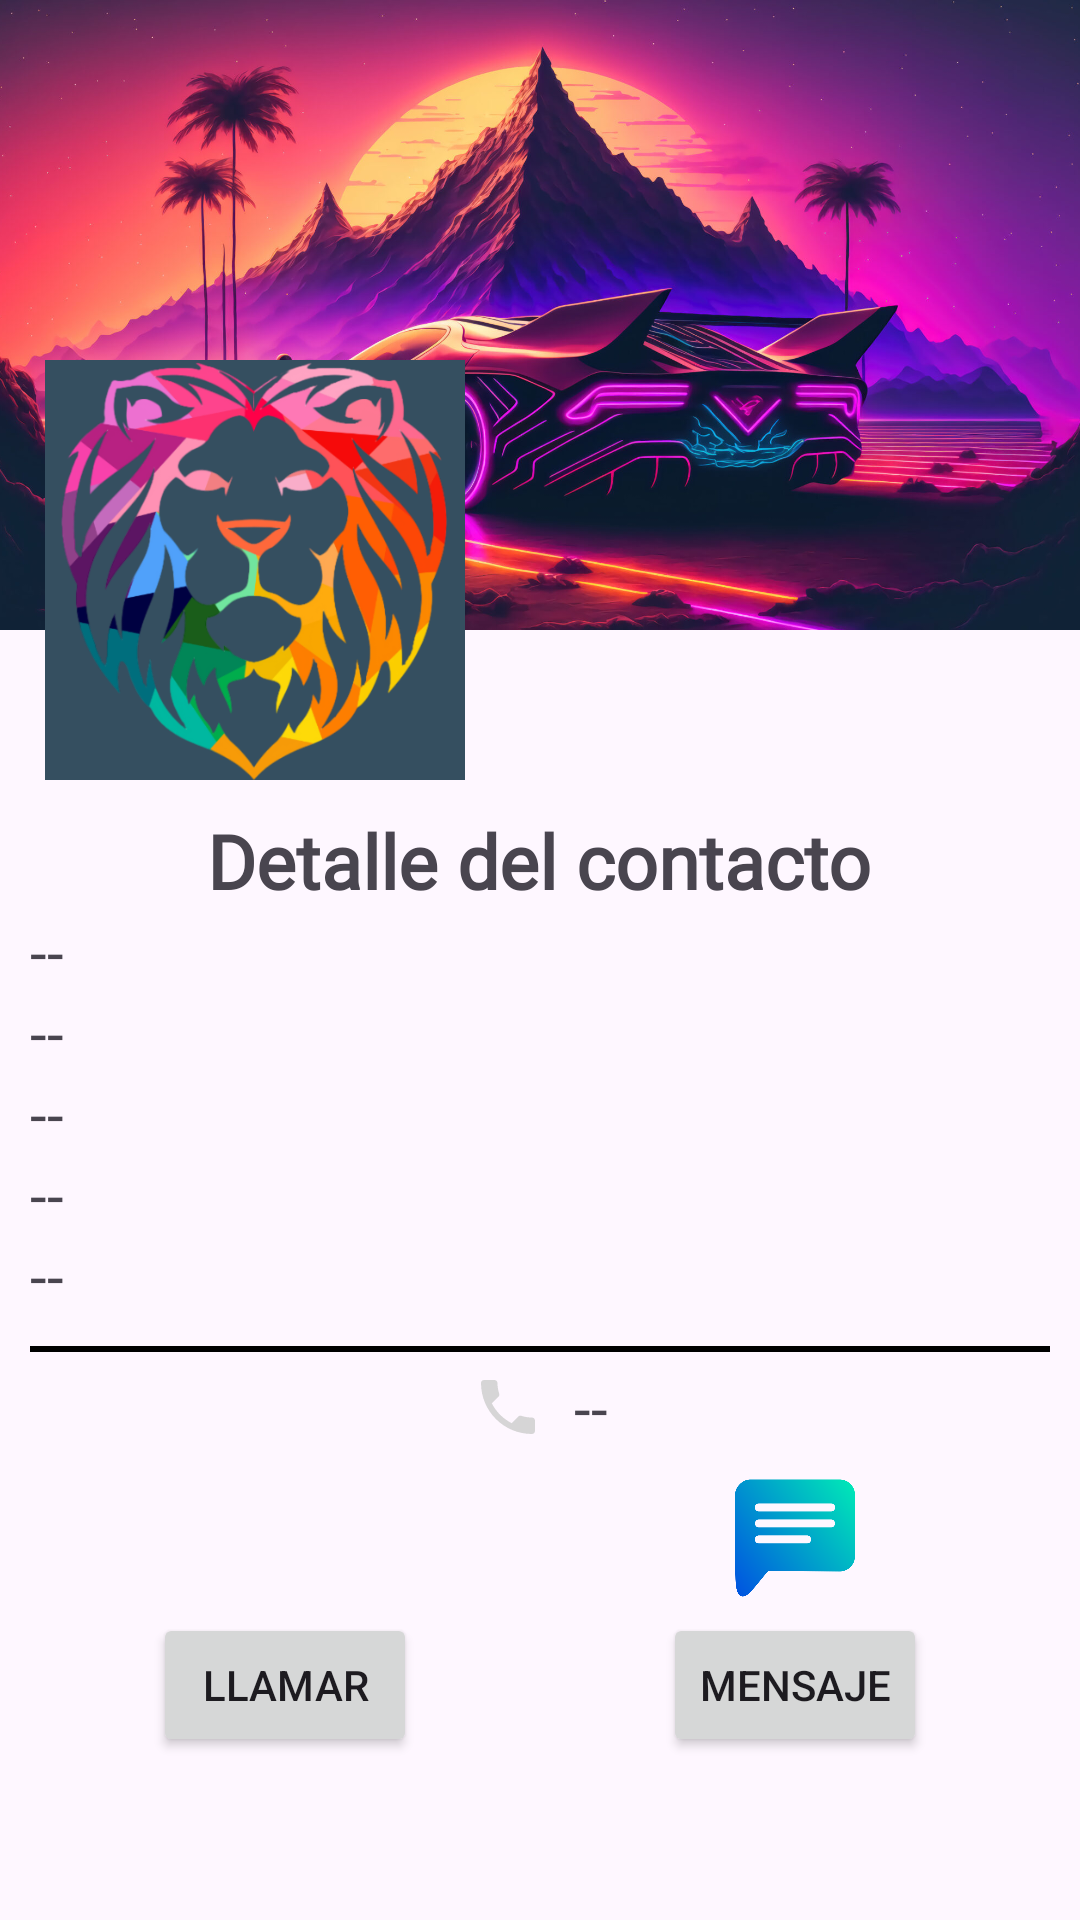

Where to tap for icons on this 1080×1920 app screen, as (x=x, y=y):
comentario: (x=795, y=1538)
